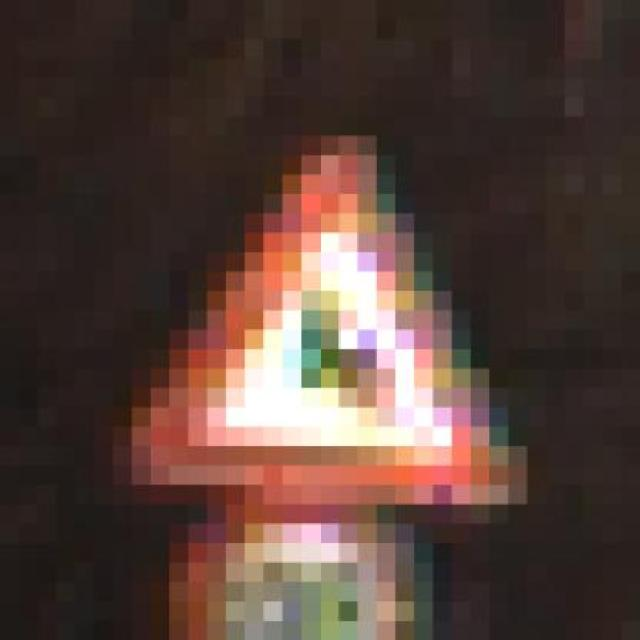Left Zig Zag Traffic: (93, 116, 564, 524)
